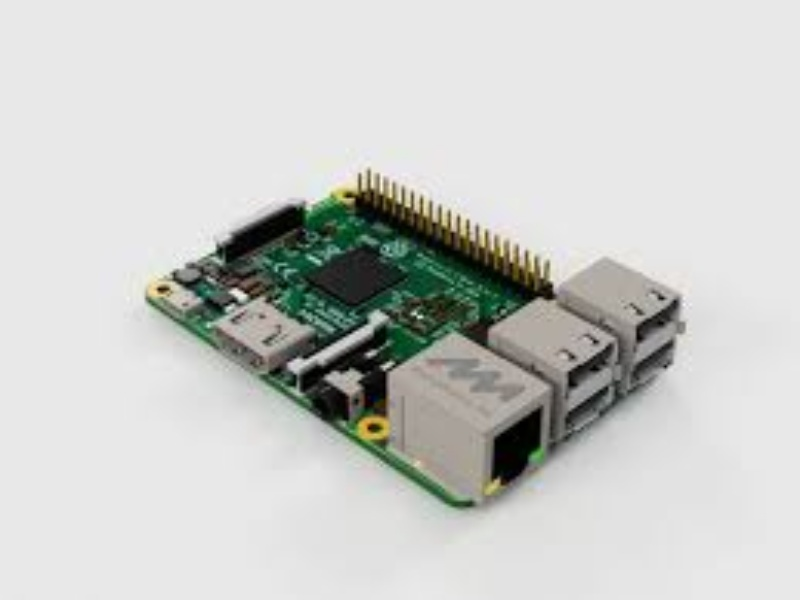raspberrypi: (148, 162, 701, 515)
